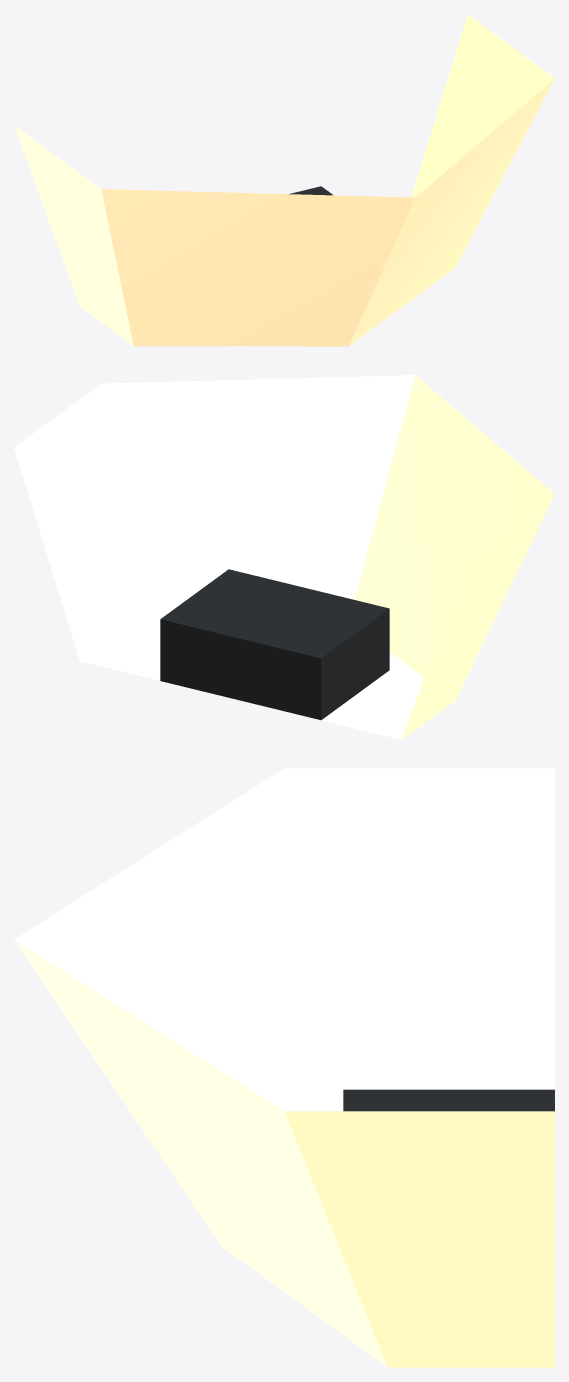
Rendered from lamp-wall.glb.
The picture shows the model from 3 angles, top to bottom: view 1: azimuth 30°, elevation 25°; view 2: azimuth 150°, elevation 25°; view 3: azimuth 270°, elevation 25°; orthographic projection. The views are drawn at different scales.
Parts seen in each view (by area): view 1: lamp-wall; view 2: lamp-wall; view 3: lamp-wall.
Boxes of the visible parts, x1,y1,x2,y2 form: lamp-wall: [14, 15, 554, 346]; lamp-wall: [14, 375, 554, 739]; lamp-wall: [14, 768, 554, 1367].
Bounding box in the file's own units: 0.3 × 0.125 × 0.2.
